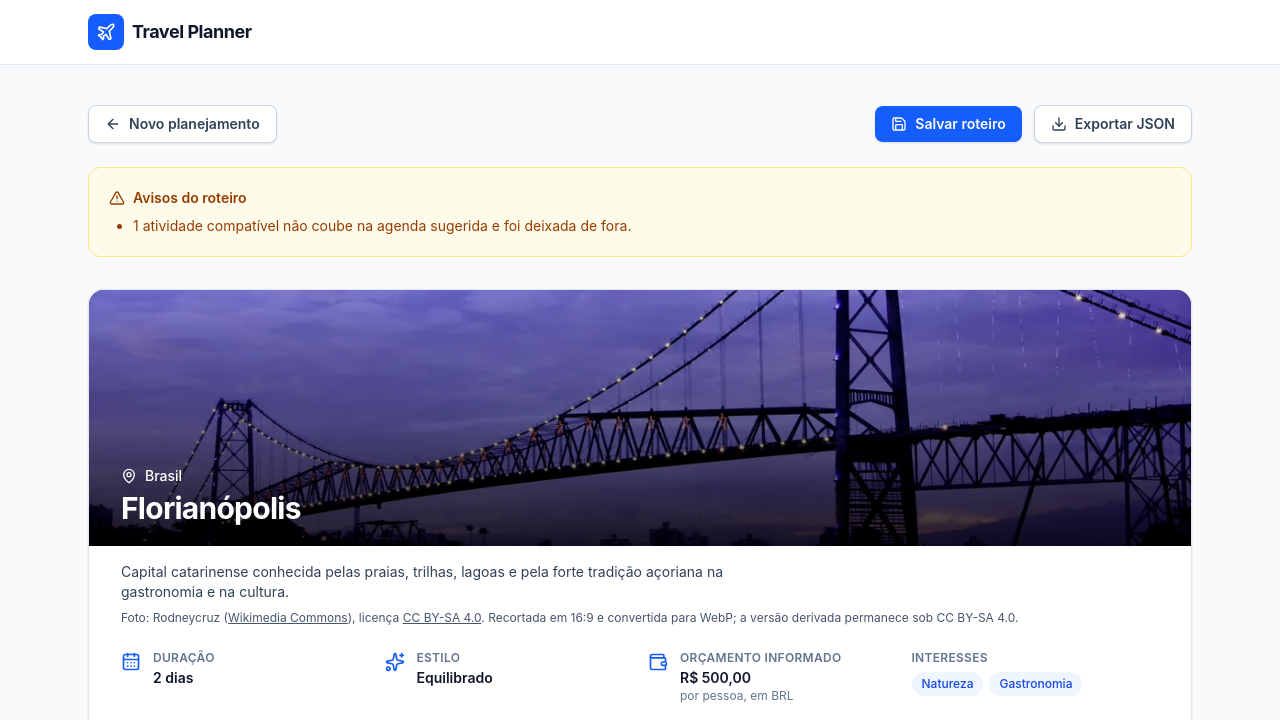
Test case: ItineraryPage — interações de persistência (P3) › falha ao salvar (quota excedida): alerta acessível, sem falso sucesso e sem alterar a chave
This screenshot has width=1280, height=720.
What coordinates should you click on to do the following:
click the button "Salvar roteiro"
I would click on:
 (949, 124)
Its box is [875,106,1022,142].
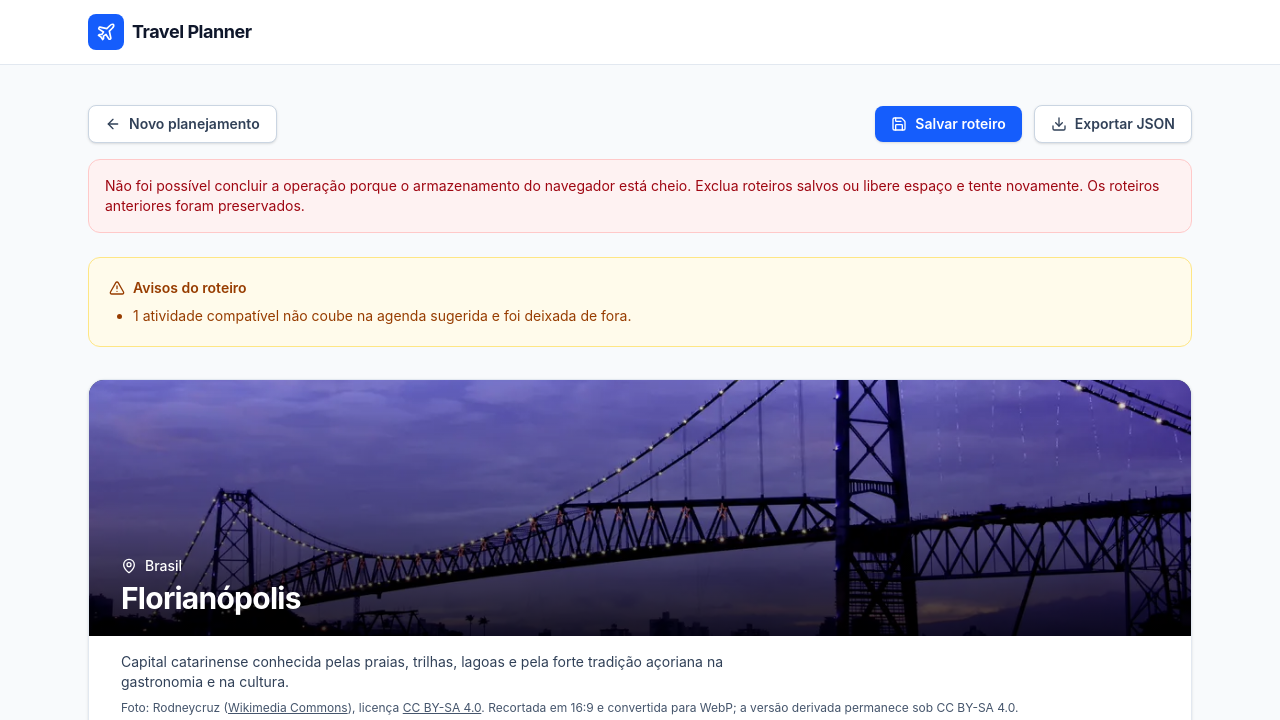
Expected: the text "armazenamento do navegador está cheio" is shown, [105,177,1160,214]
